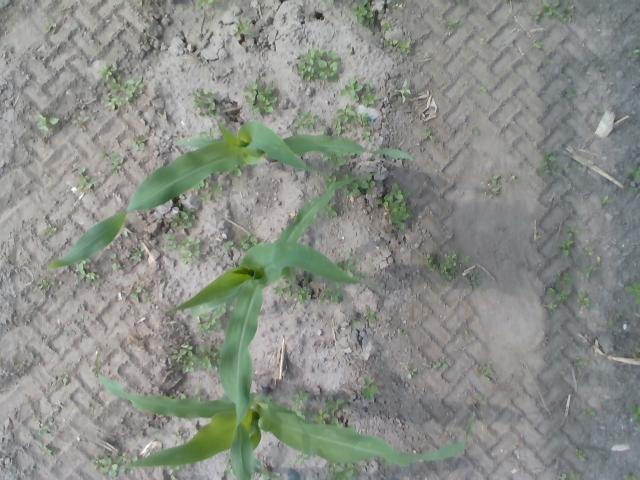Maize: (165, 175, 370, 480), (45, 120, 415, 272), (95, 350, 476, 479)
Weeds: (98, 62, 147, 112), (377, 183, 414, 232), (171, 340, 220, 374), (333, 103, 374, 140), (299, 46, 341, 82), (424, 252, 470, 284), (544, 269, 576, 314), (161, 232, 202, 264), (274, 273, 314, 305), (244, 78, 279, 114), (532, 0, 577, 26), (313, 395, 345, 427), (482, 172, 518, 200), (90, 456, 128, 480), (168, 204, 198, 234), (74, 258, 102, 287), (200, 304, 227, 333), (558, 225, 579, 262), (352, 0, 379, 27), (192, 88, 218, 116), (290, 386, 310, 420), (74, 166, 100, 192), (378, 38, 413, 56), (293, 108, 320, 131), (339, 76, 362, 103), (540, 147, 560, 177), (361, 374, 381, 404), (223, 233, 258, 250), (316, 285, 344, 306), (328, 463, 361, 480), (362, 80, 382, 107), (38, 416, 61, 438), (100, 150, 124, 171), (35, 112, 60, 132), (472, 360, 494, 382), (131, 284, 155, 304), (40, 442, 61, 463), (234, 17, 253, 40), (624, 281, 640, 307), (322, 154, 347, 170), (578, 288, 594, 313), (337, 252, 357, 272), (397, 78, 412, 104), (132, 131, 151, 150), (176, 390, 206, 402), (72, 114, 90, 133), (38, 276, 56, 295), (606, 312, 624, 330), (625, 402, 640, 423), (222, 454, 234, 480), (110, 250, 124, 271), (625, 167, 640, 186), (364, 304, 378, 324), (422, 125, 436, 144), (432, 358, 451, 372), (470, 268, 482, 290), (362, 175, 375, 195), (210, 180, 226, 196), (168, 465, 185, 480), (262, 469, 284, 480), (132, 244, 144, 264), (324, 202, 339, 218), (346, 180, 359, 198), (583, 266, 596, 284), (572, 357, 592, 368), (574, 446, 588, 461), (323, 172, 337, 186), (564, 86, 578, 100), (584, 244, 598, 258), (406, 366, 420, 380), (44, 19, 59, 32), (43, 225, 58, 238), (582, 404, 597, 416), (172, 430, 187, 442), (294, 454, 308, 466), (59, 374, 71, 388), (352, 270, 368, 280), (380, 20, 393, 32), (627, 46, 639, 59), (17, 362, 29, 374), (196, 0, 214, 8), (194, 182, 210, 191), (570, 470, 584, 480), (622, 472, 639, 480), (600, 194, 612, 205), (472, 395, 484, 406), (348, 317, 358, 330), (64, 329, 80, 337), (451, 18, 462, 29), (24, 396, 34, 408), (533, 42, 545, 52), (200, 192, 210, 204), (398, 328, 409, 338), (544, 57, 556, 66), (232, 168, 244, 177), (80, 314, 90, 324), (633, 346, 640, 360), (562, 163, 570, 175), (472, 126, 479, 138), (464, 327, 472, 337), (479, 86, 488, 94), (388, 3, 397, 10), (560, 473, 568, 480), (560, 370, 566, 377), (139, 0, 145, 7), (456, 0, 463, 4), (327, 0, 336, 3)
